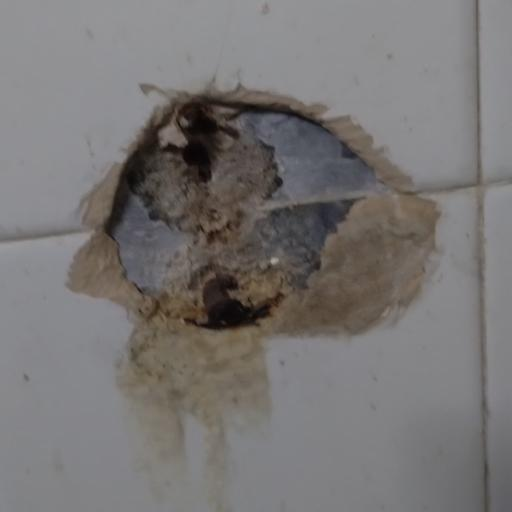spalling: (67, 60, 436, 442)
